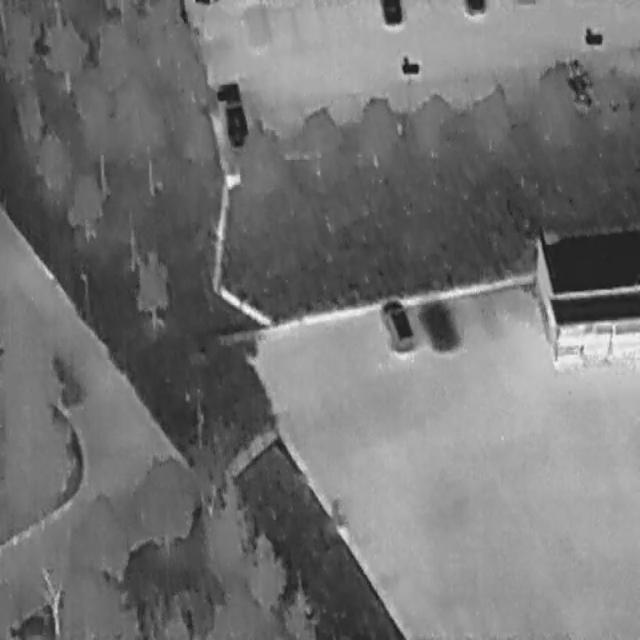Car: (213, 76, 253, 152), (375, 290, 419, 359), (377, 0, 404, 26), (460, 0, 488, 19)
